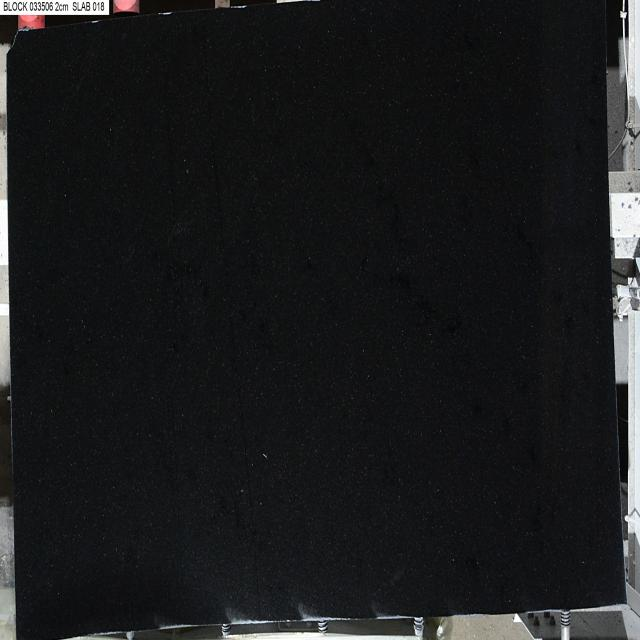chapa: (8, 2, 625, 638)
